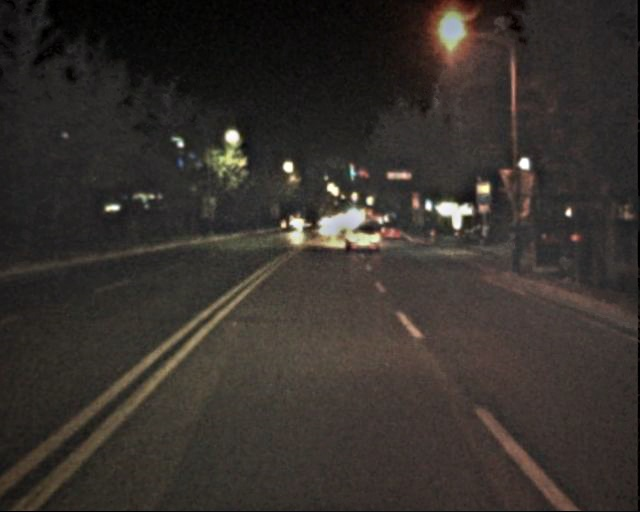person: (504, 224, 528, 283)
